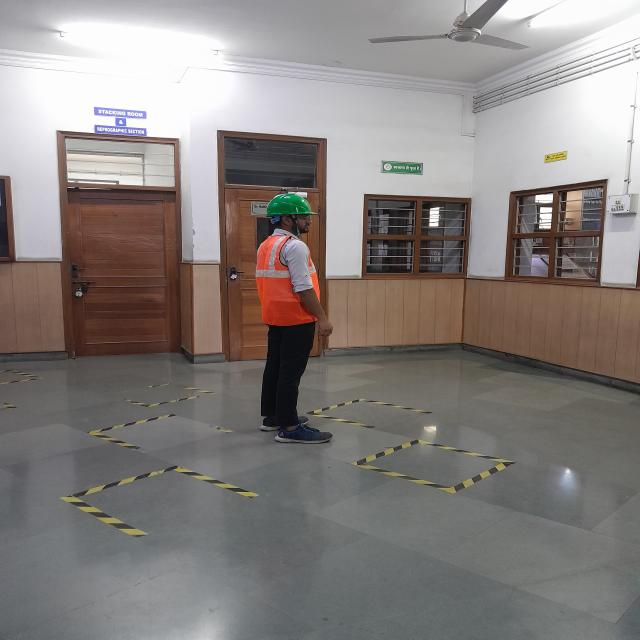safe: (255, 194, 332, 442)
